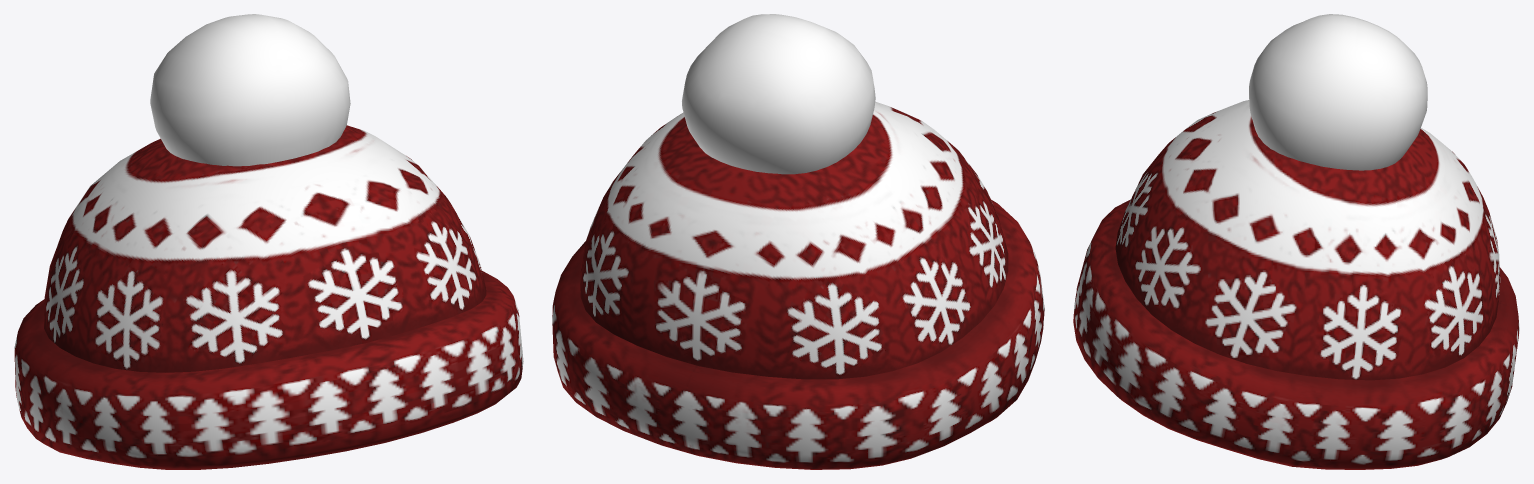
The model's file is doodad_winter_hat.fbx.
3 renders of one model, left to right at view 1: azimuth 30°, elevation 25°; view 2: azimuth 150°, elevation 25°; view 3: azimuth 270°, elevation 25°, orthographic. The views are drawn at different scales.
Parts seen in each view (by area): view 1: doodad_winter_hat; view 2: doodad_winter_hat; view 3: doodad_winter_hat.
Part boxes in pixels (<box>): doodad_winter_hat: <box>14,14,523,469</box>; doodad_winter_hat: <box>552,14,1044,469</box>; doodad_winter_hat: <box>1073,14,1519,469</box>.
Bounding box in the file's own units: 0.2402 × 0.202 × 0.2223.
